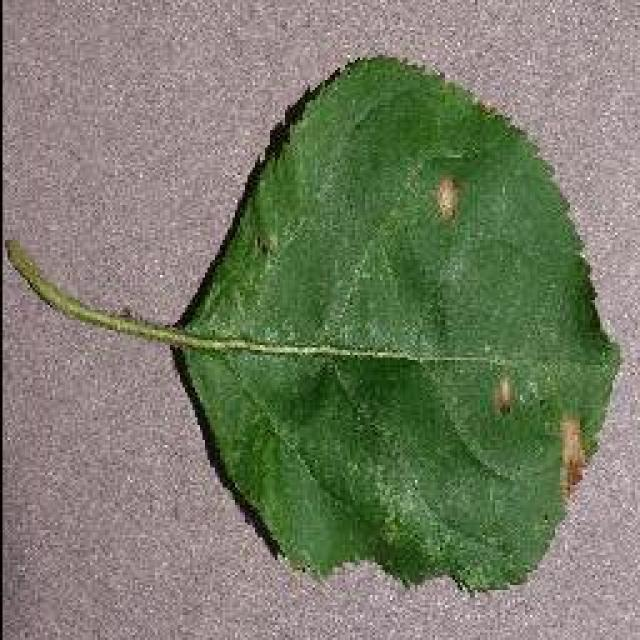Black_rot: (5, 50, 623, 592)
